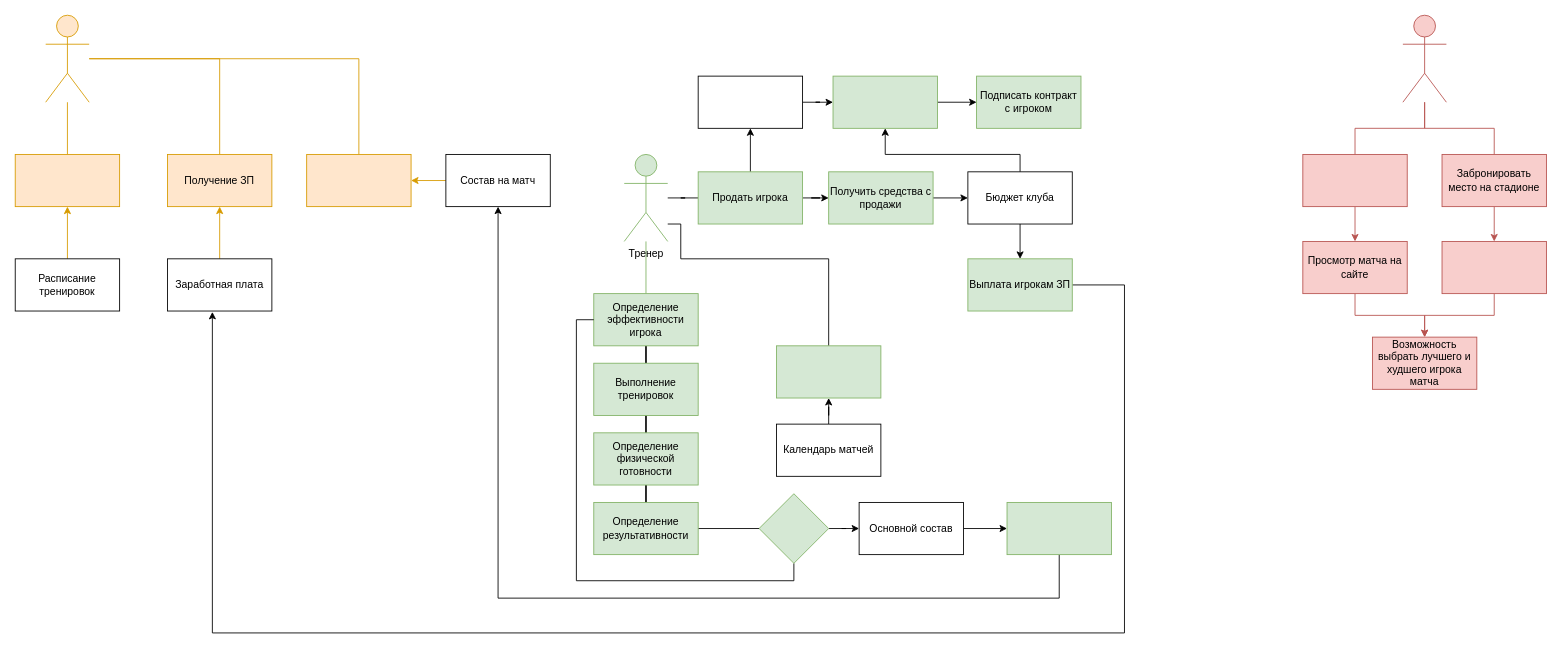
Some shapes in this 1562 by 655 pixel diagram are drawn without their labels. Each missing label, with the centre of its shape:
"Болельщик" belongs at (1424,58).
"Запись команды на матч" belongs at (828,371).
"Игрок" belongs at (67,58).
"Купить билет для просмотра матча на сайте" belongs at (1354,180).
"Купить игрока" belongs at (884,101).
"Определение состава на игру" belongs at (1058,528).
"Просмотр матча на стадионе" belongs at (1493,267).
"Просмотр расписания тренировок" belongs at (67,180).
"Просмотр состава на матч" belongs at (358,180).
"Трансферный рынок" belongs at (750,101).
